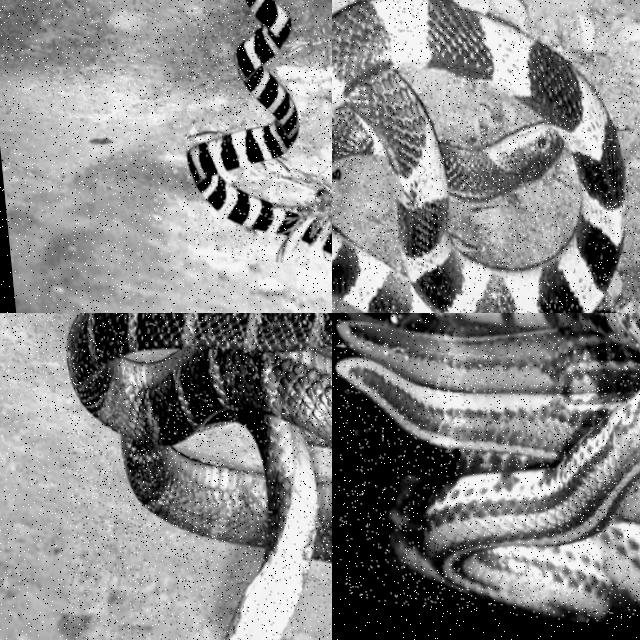Bungarus candidus: (332, 0, 624, 312)
Bungarus fasciatus: (187, 0, 331, 249)
Calliophis intestinalis: (337, 358, 639, 620)
Ophiophagus hannah: (66, 313, 331, 639)
snake: (332, 0, 624, 312), (66, 313, 331, 639), (337, 358, 639, 620), (187, 0, 331, 249)
